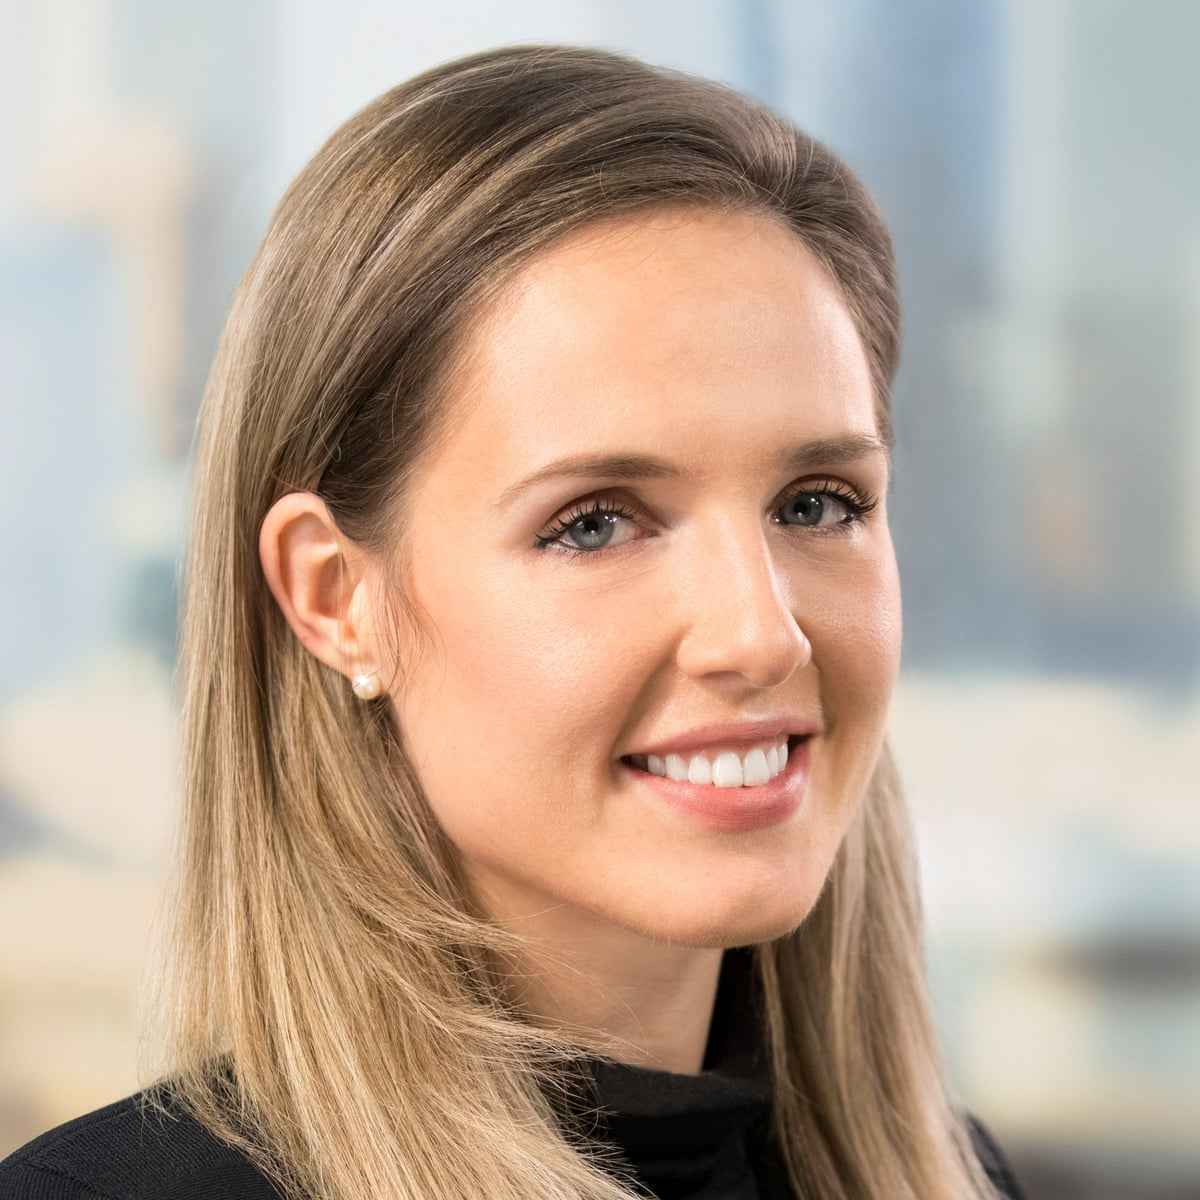woman: (209, 47, 913, 951)
